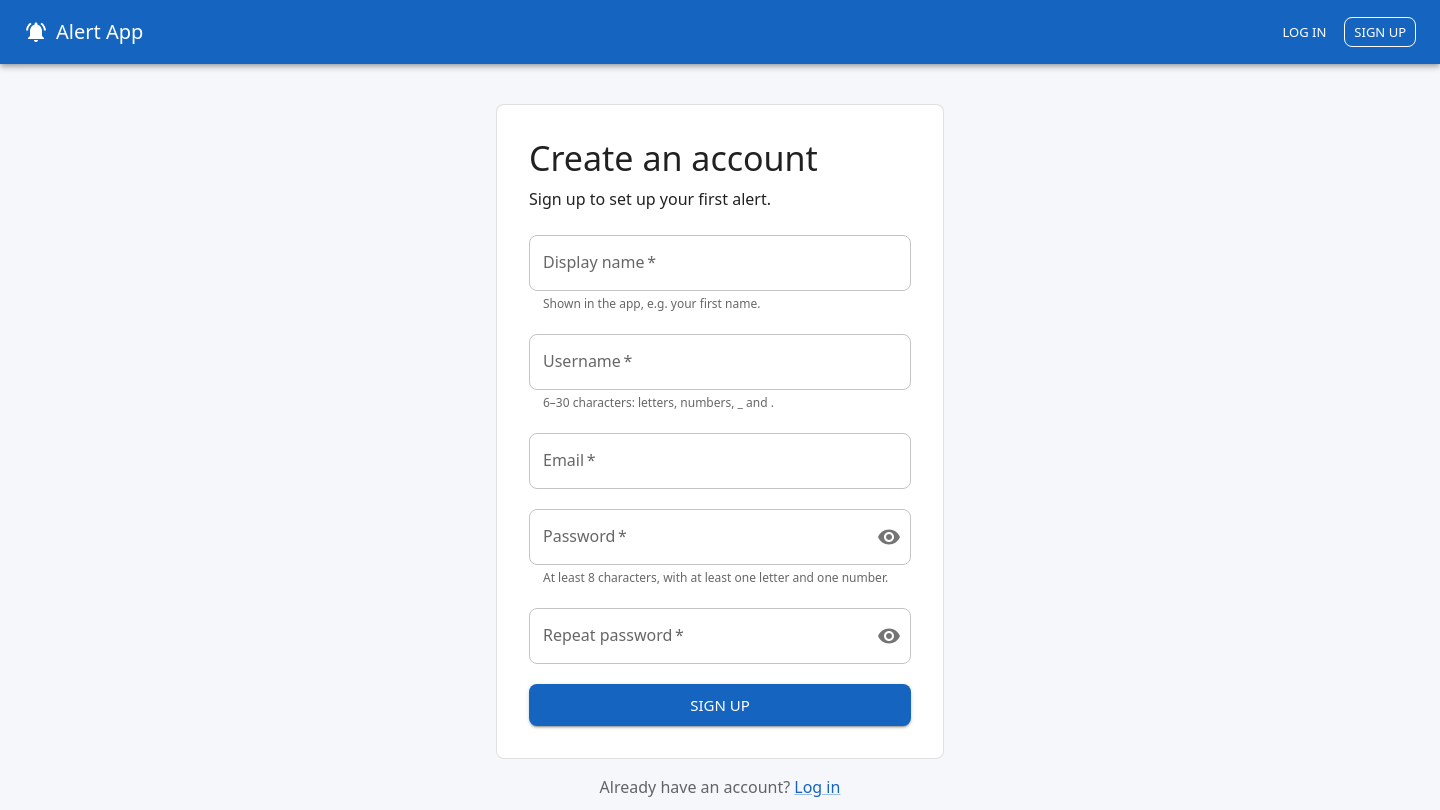
it: SignUpPage › validation in the browser › shows an error when leaving an empty field
The width and height of the screenshot is (1440, 810).
Step 1. Click the field labelled "Display name *" → (720, 263), box [529,235,911,291]
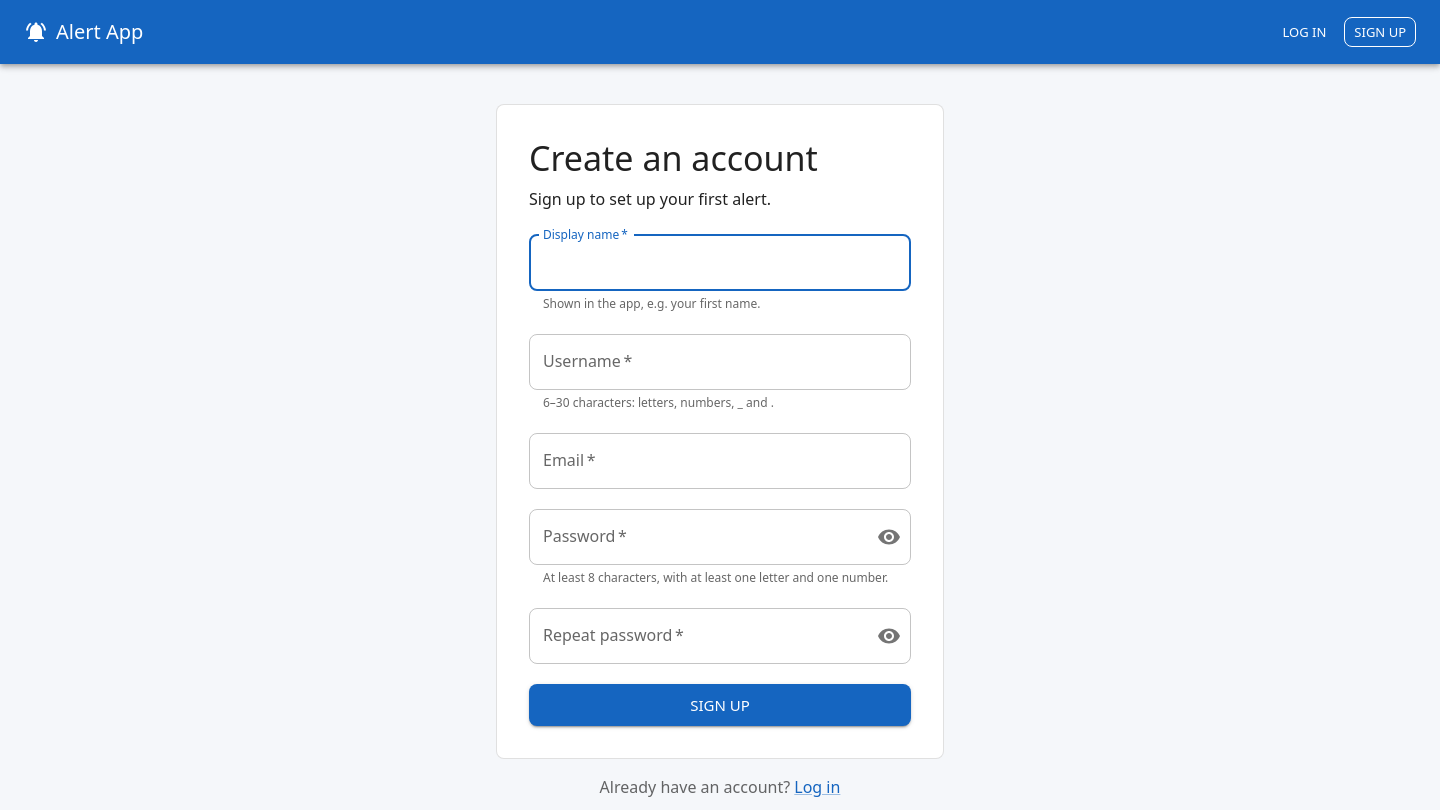
Step 2. Press Tab
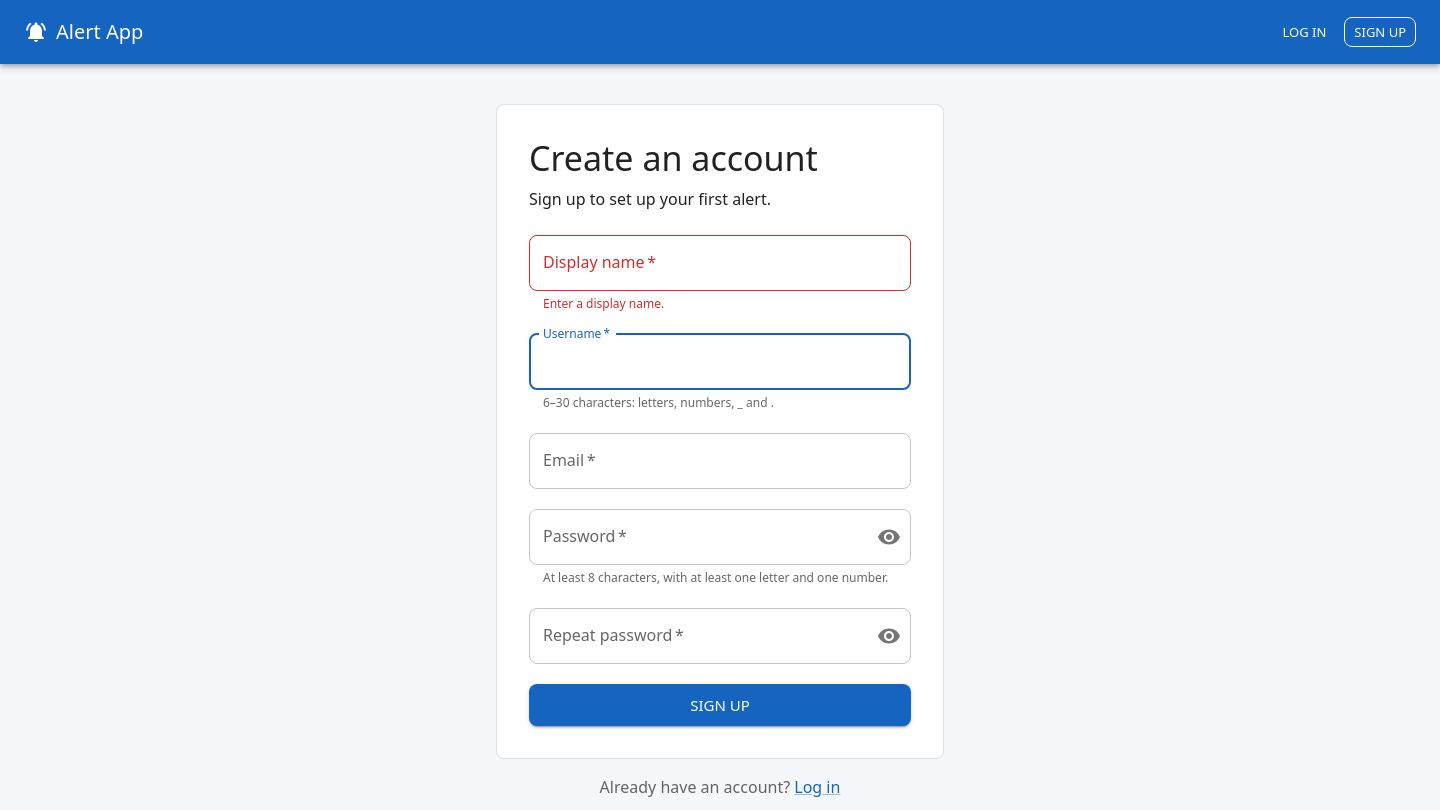
Now the text "Enter a display name." is shown, box [543,295,664,312]
